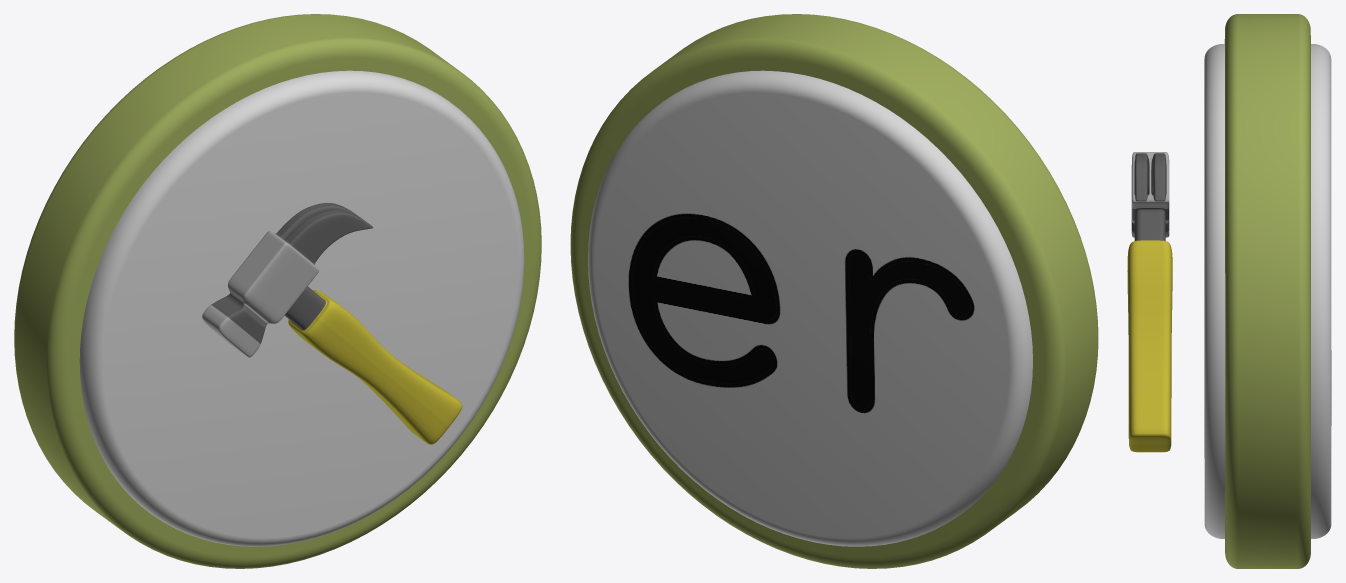
Rendered from hammer.gltf.
3 views of the same model, side by side, from view 1: azimuth 30°, elevation 25°; view 2: azimuth 150°, elevation 25°; view 3: azimuth 270°, elevation 25° (orthographic). The views are drawn at different scales.
Visible parts, largest first — view 1: Cylinder_2, Cylinder.001, Cube; view 2: Cylinder_2, Cylinder.001; view 3: Cylinder.001, Cylinder_2, Cube.
Part boxes in pixels (x1=…): Cylinder_2: x1=79, y1=70, x2=524, y2=546; Cylinder.001: x1=14, y1=14, x2=541, y2=568; Cube: x1=202, y1=203, x2=462, y2=444; Cylinder_2: x1=588, y1=70, x2=1032, y2=546; Cylinder.001: x1=570, y1=14, x2=1098, y2=568; Cylinder.001: x1=1224, y1=14, x2=1310, y2=568; Cylinder_2: x1=1204, y1=44, x2=1331, y2=538; Cube: x1=1127, y1=152, x2=1172, y2=452.
Size of the model in its own units: 2.56 by 2.56 by 0.9397.
Materials: 6 (1 with a texture image).
